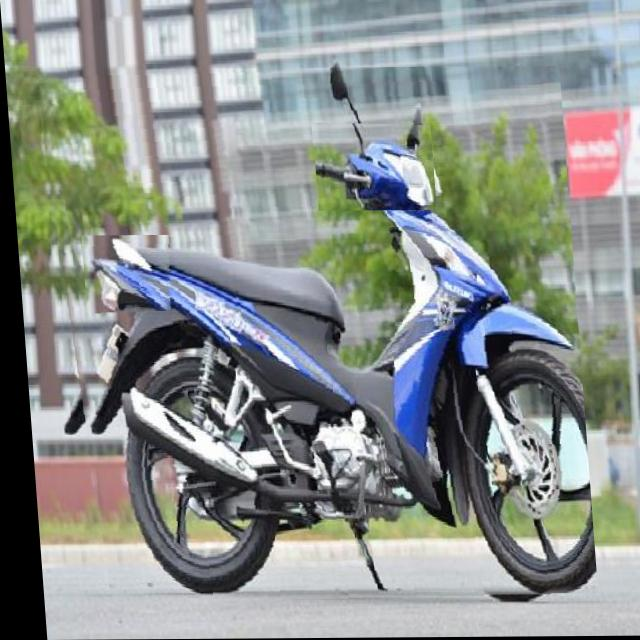All: (33, 67, 590, 604)
Head: (309, 122, 434, 211)
Tail: (78, 235, 169, 314)
